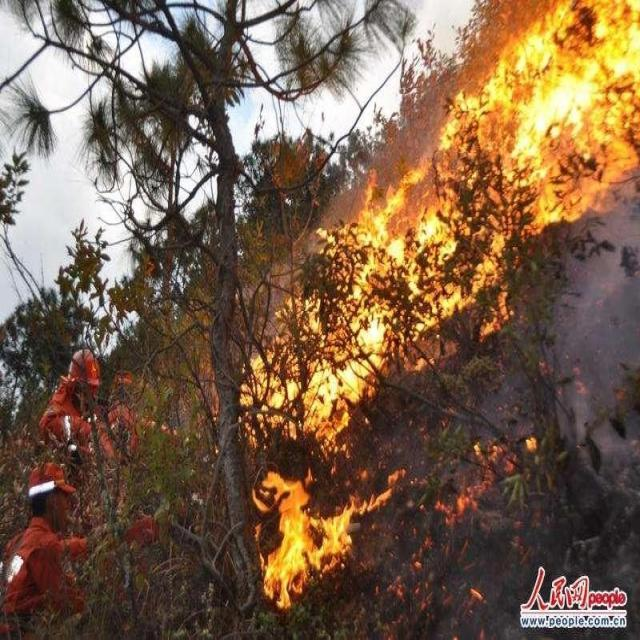Fire: (233, 1, 640, 458), (252, 469, 415, 610)
Smoke: (484, 180, 640, 496)
